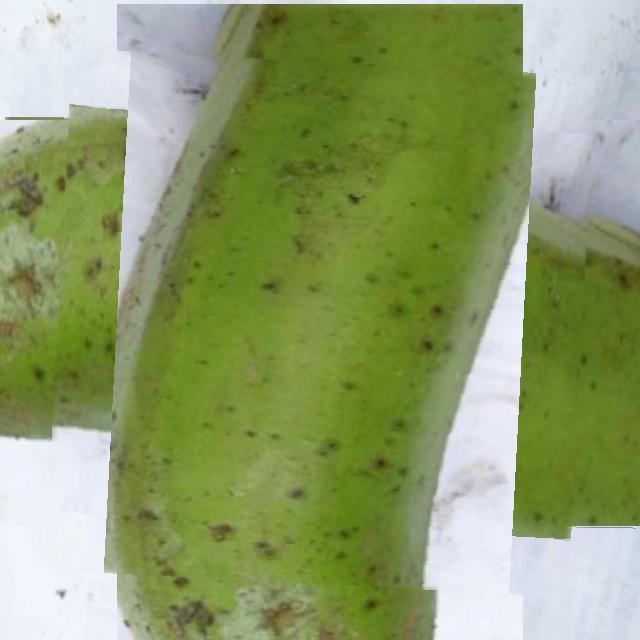Verde: (52, 55, 588, 591)
